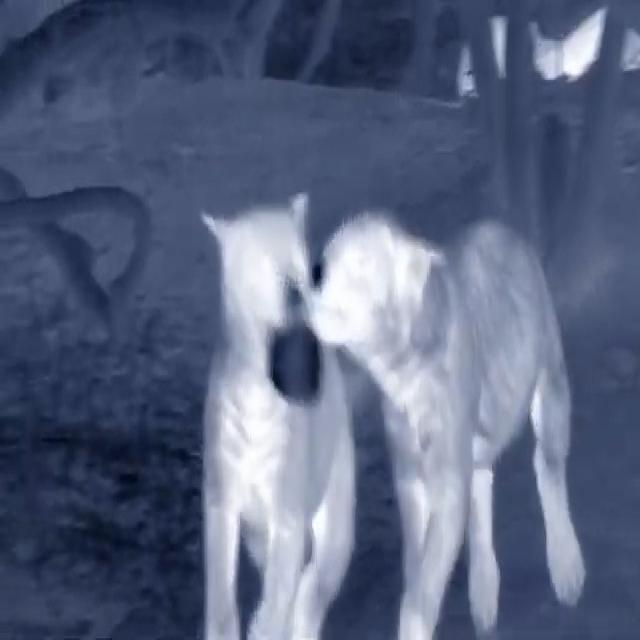animal: (318, 178, 628, 640), (196, 180, 382, 640)
